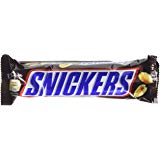snickers: (24, 71, 134, 94)
